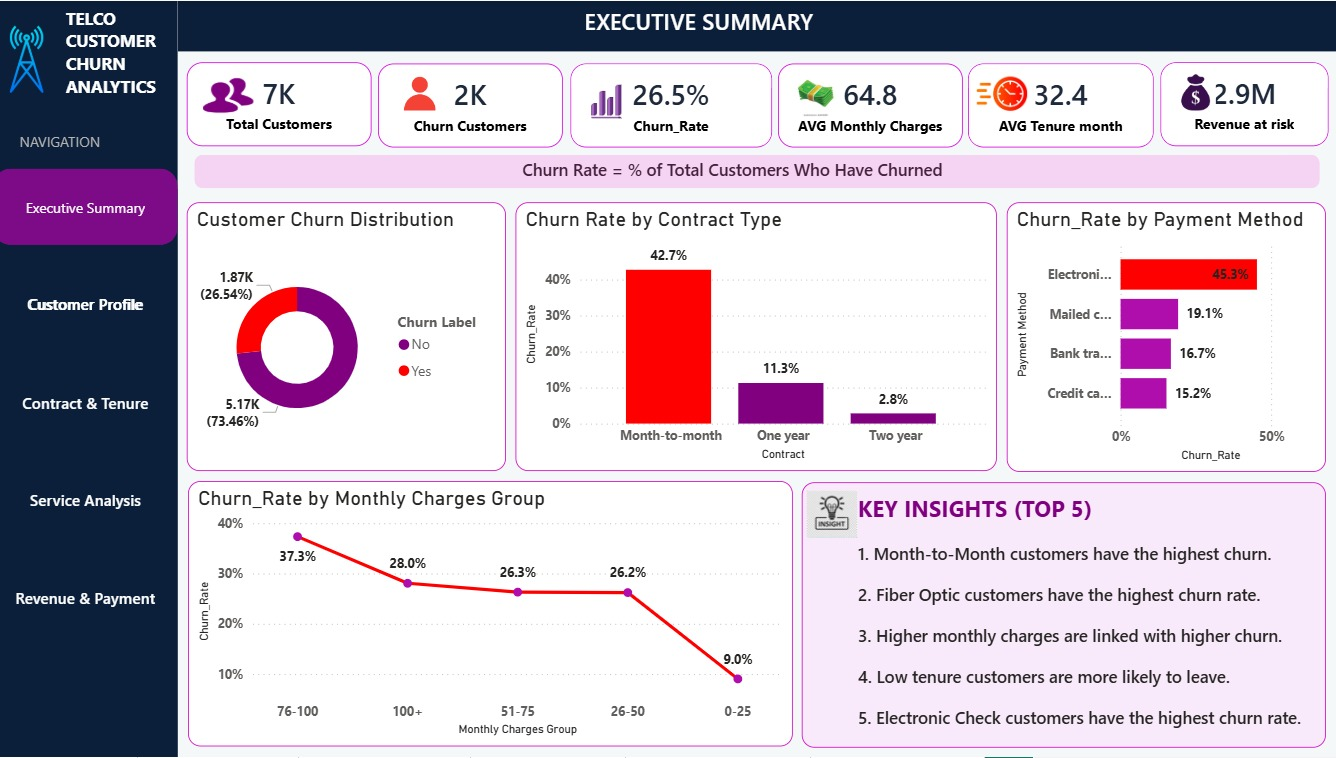

The page's visual inventory and layout, read from the dashboard file:
{"tool":"powerbi","page":{"name":"Executive Summary","canvas":[1280,720],"ordinal":0},"visuals":[{"type":"cardVisual","fields":{"Data":["Telco_Churn.Churn Customers"]},"box":[367,60,176,80],"z":0},{"type":"cardVisual","fields":{"Data":["Telco_Churn.Churn_Rate"]},"box":[550,60,192,80],"z":1000},{"type":"cardVisual","fields":{"Data":["Telco_Churn.Average_Monthly_Charges"]},"box":[748,59,176,80],"z":2000},{"type":"cardVisual","fields":{"Data":["Telco_Churn.Revenue at risk"]},"box":[1112,58,160,80],"z":3000},{"type":"cardVisual","fields":{"Data":["Telco_Churn.Aversge_Tenure_month"]},"box":[928,60,177,80],"z":4000},{"type":"shape","box":[0,0,176,720],"z":5000},{"type":"textbox","box":[20,120,120,30],"z":6000},{"type":"image","box":[0,16,64,80],"z":7000},{"type":"pageNavigator","box":[0,160,176,448],"z":8000},{"type":"cardVisual","fields":{"Data":["Telco_Churn.Total Customers"]},"box":[184,58,176,80],"z":9000},{"type":"donutChart","title":"Customer Churn Distribution","fields":{"Y":["CountNonNull(Telco_Churn.CustomerID)"],"Category":["Telco_Churn.Churn Label"]},"box":[185,192,304,256],"z":10000},{"type":"clusteredColumnChart","title":"Churn Rate by Contract Type","fields":{"Category":["Telco_Churn.Contract"],"Y":["Telco_Churn.Churn_Rate"]},"box":[498,192,458,256],"z":11000},{"type":"textbox","box":[64,0,96,112],"z":12000},{"type":"shape","box":[176,0,1104,48],"z":13000},{"type":"textbox","box":[432,0,480,48],"z":14000},{"type":"textbox","box":[176,144,1056,32],"z":15000},{"type":"shape","box":[192,146,1072,32],"z":16000},{"type":"clusteredBarChart","fields":{"Y":["Telco_Churn.Churn_Rate"],"Category":["Telco_Churn.Payment Method"]},"box":[966,192,304,257],"z":17000},{"type":"lineChart","fields":{"Category":["Telco_Churn.Monthly Charges Group"],"Y":["Telco_Churn.Churn_Rate"]},"box":[186,457,576,253],"z":18000},{"type":"textbox","box":[770,458,499,253],"z":19000},{"type":"image","box":[200,73,48,34],"z":20000},{"type":"image","box":[390,64,32,48],"z":21000},{"type":"image","box":[544,80,80,32],"z":22000},{"type":"image","box":[758,64,50,50],"z":23000},{"type":"image","box":[1122,68,48,38],"z":24000},{"type":"image","box":[937,64,48,48],"z":25000},{"type":"image","box":[775,449,48,80],"z":26000},{"type":"actionButton","box":[0,256,176,64],"z":27000},{"type":"actionButton","box":[0,352,176,64],"z":28000},{"type":"actionButton","box":[0,448,176,64],"z":29000},{"type":"actionButton","box":[0,544,176,64],"z":30000},{"type":"actionButton","box":[0,160,176,64],"z":30001}]}

Visuals, with their boxes on the page's 1280x720 design canvas (x1, y1, x2, y2). These are canvas units, not pixel positions in the 1336x758 screenshot, which may show the page scaled, cropped or inside an application window:
cardVisual - Telco_Churn.Churn Customers: l=367, t=60, r=543, b=140
cardVisual - Telco_Churn.Churn_Rate: l=550, t=60, r=742, b=140
cardVisual - Telco_Churn.Average_Monthly_Charges: l=748, t=59, r=924, b=139
cardVisual - Telco_Churn.Revenue at risk: l=1112, t=58, r=1272, b=138
cardVisual - Telco_Churn.Aversge_Tenure_month: l=928, t=60, r=1105, b=140
shape: l=0, t=0, r=176, b=720
textbox: l=20, t=120, r=140, b=150
image: l=0, t=16, r=64, b=96
pageNavigator: l=0, t=160, r=176, b=608
cardVisual - Telco_Churn.Total Customers: l=184, t=58, r=360, b=138
"Customer Churn Distribution" donutChart: l=185, t=192, r=489, b=448
"Churn Rate by Contract Type" clusteredColumnChart: l=498, t=192, r=956, b=448
textbox: l=64, t=0, r=160, b=112
shape: l=176, t=0, r=1280, b=48
textbox: l=432, t=0, r=912, b=48
textbox: l=176, t=144, r=1232, b=176
shape: l=192, t=146, r=1264, b=178
clusteredBarChart - Telco_Churn.Churn_Rate x Telco_Churn.Payment Method: l=966, t=192, r=1270, b=449
lineChart - Telco_Churn.Monthly Charges Group x Telco_Churn.Churn_Rate: l=186, t=457, r=762, b=710
textbox: l=770, t=458, r=1269, b=711
image: l=200, t=73, r=248, b=107
image: l=390, t=64, r=422, b=112
image: l=544, t=80, r=624, b=112
image: l=758, t=64, r=808, b=114
image: l=1122, t=68, r=1170, b=106
image: l=937, t=64, r=985, b=112
image: l=775, t=449, r=823, b=529
actionButton: l=0, t=256, r=176, b=320
actionButton: l=0, t=352, r=176, b=416
actionButton: l=0, t=448, r=176, b=512
actionButton: l=0, t=544, r=176, b=608
actionButton: l=0, t=160, r=176, b=224
